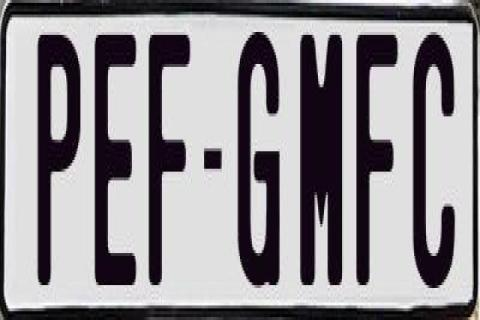C: (413, 23, 459, 280)
E: (94, 27, 138, 280)
F: (146, 35, 194, 291), (354, 35, 394, 294)
G: (236, 24, 278, 282)
M: (300, 29, 344, 285)
P: (35, 35, 83, 299)
